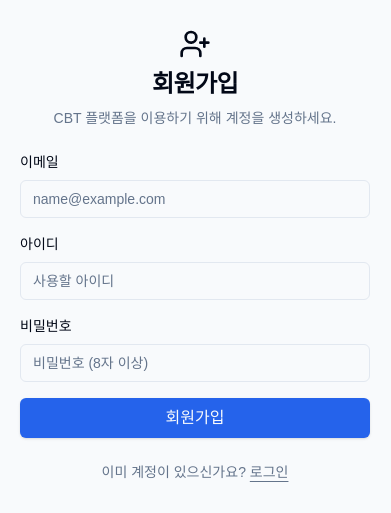
Test case: focuses the conflicting signup field
In the field labelled "이메일": (195, 199) [20,180,370,218], type "user@example.com"
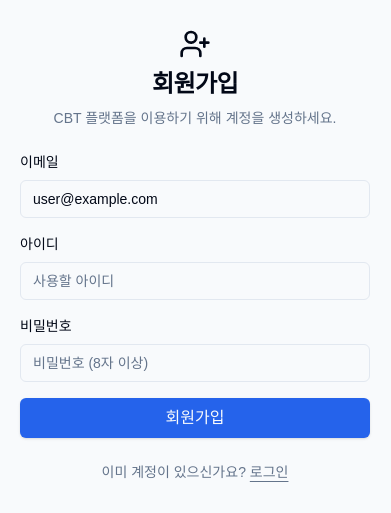
In the field labelled "아이디": (195, 281) [20,262,370,300], type "user"
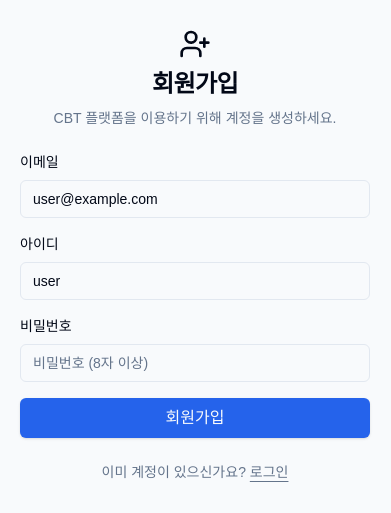
In the password field labelled "비밀번호": (195, 363) [20,344,370,382], type "password"
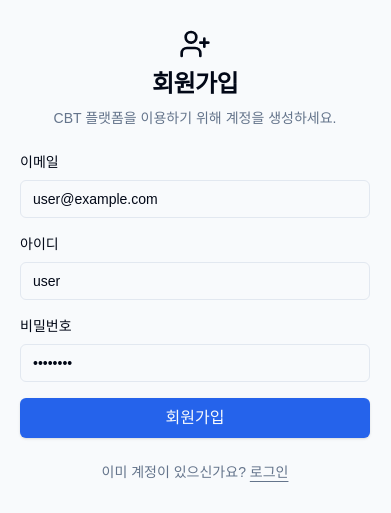
Click the button "회원가입": click(195, 418) [20,398,370,438]
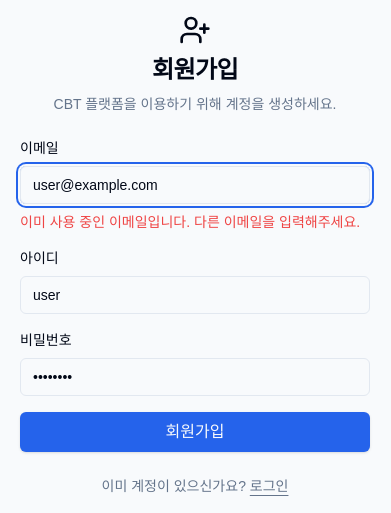
Expected: the message shows "이미 사용 중인 이메일", [20,214,360,230]
